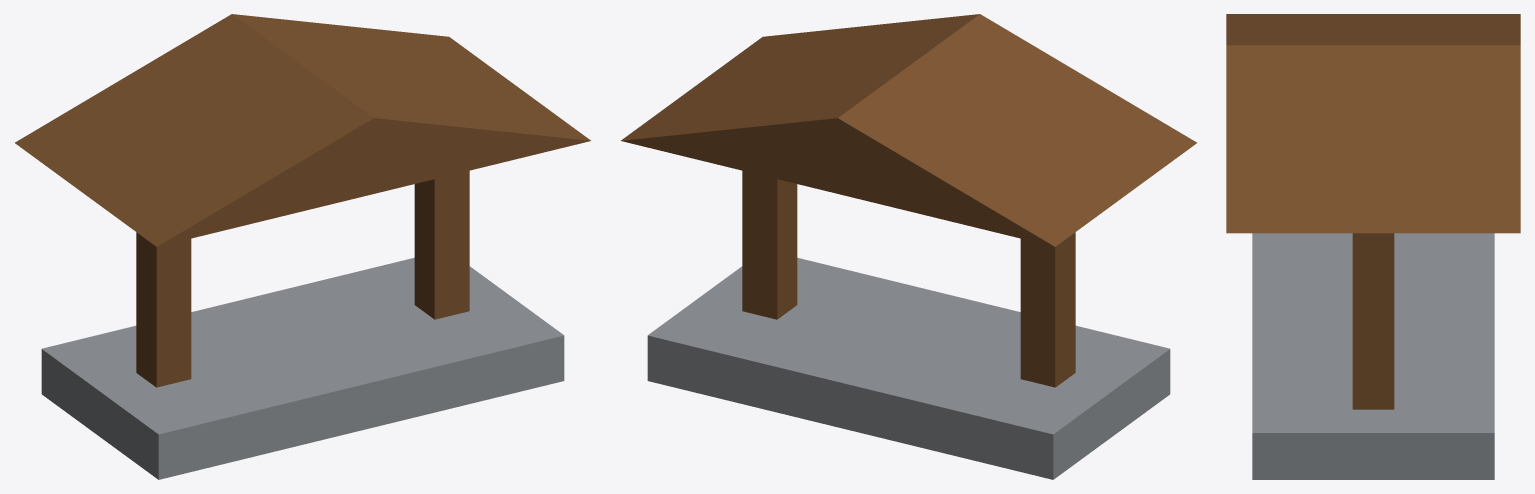
The model's file is Estacion.fbx.
3 views of the same model, side by side, from view 1: azimuth 30°, elevation 25°; view 2: azimuth 150°, elevation 25°; view 3: azimuth 270°, elevation 25° (orthographic). The views are drawn at different scales.
Parts seen in each view (by area): view 1: Techo, Anden, Pilar_-0.48, Pilar_0.48; view 2: Techo, Anden, Pilar_-0.48, Pilar_0.48; view 3: Techo, Anden, Pilar_0.48.
Part boxes in pixels (left/top/right/bottom): Techo: left=15, top=14, right=590, bottom=246; Anden: left=41, top=257, right=564, bottom=479; Pilar_-0.48: left=136, top=232, right=191, bottom=387; Pilar_0.48: left=414, top=170, right=469, bottom=319; Techo: left=621, top=14, right=1196, bottom=246; Anden: left=647, top=257, right=1170, bottom=479; Pilar_-0.48: left=1020, top=232, right=1075, bottom=387; Pilar_0.48: left=742, top=170, right=797, bottom=319; Techo: left=1226, top=14, right=1520, bottom=233; Anden: left=1252, top=233, right=1494, bottom=479; Pilar_0.48: left=1352, top=233, right=1394, bottom=409.
Size of the model in its own units: 1.5 by 1.06 by 0.85.
